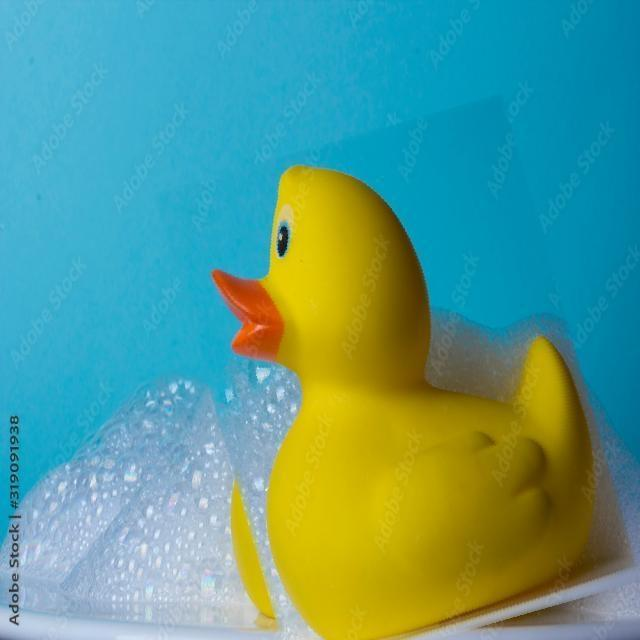rubber-duck: (211, 165, 592, 638), (231, 485, 272, 615)
